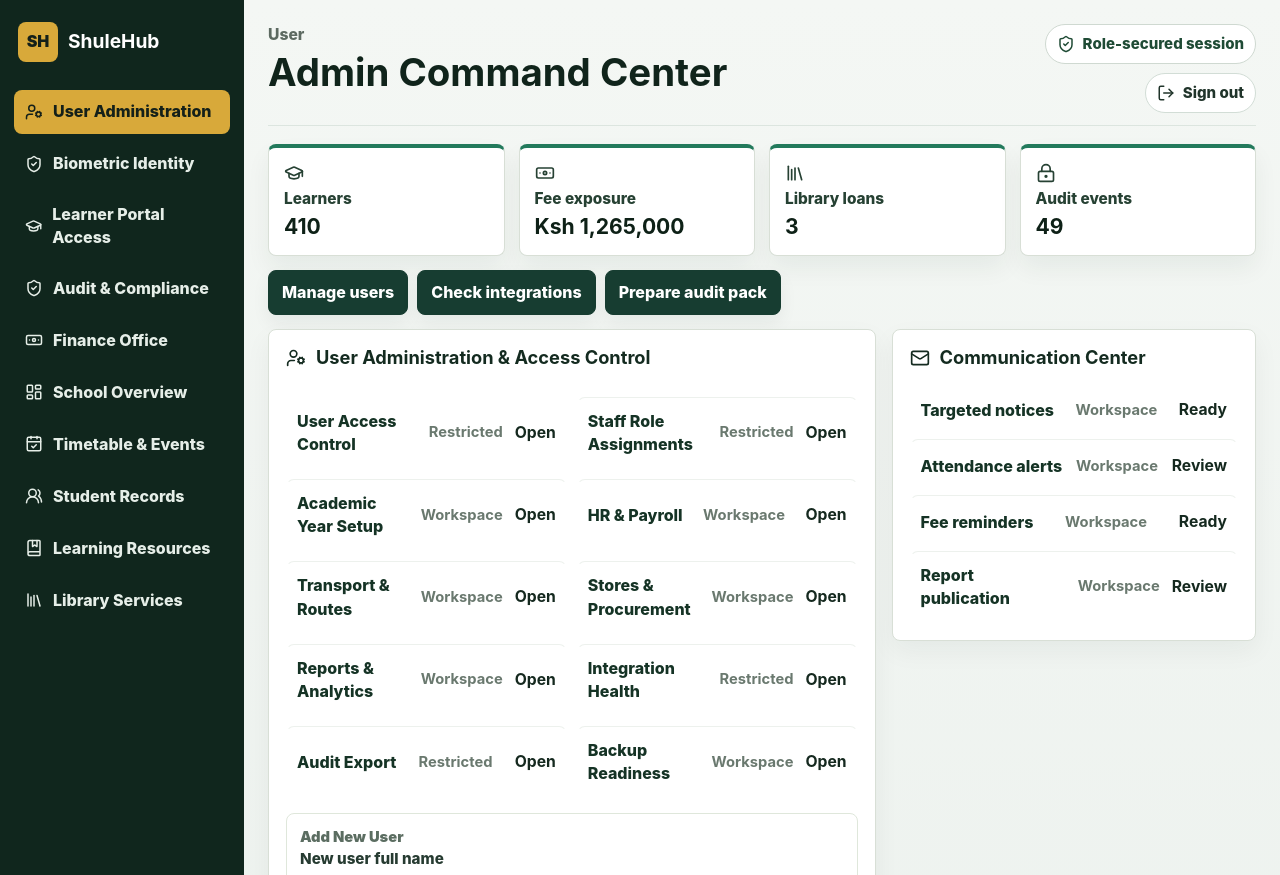
App › visible task buttons open full page workspaces instead of side panels
The image size is (1280, 875).
Click the button "Manage users": (338, 292) [268,270,408,315]
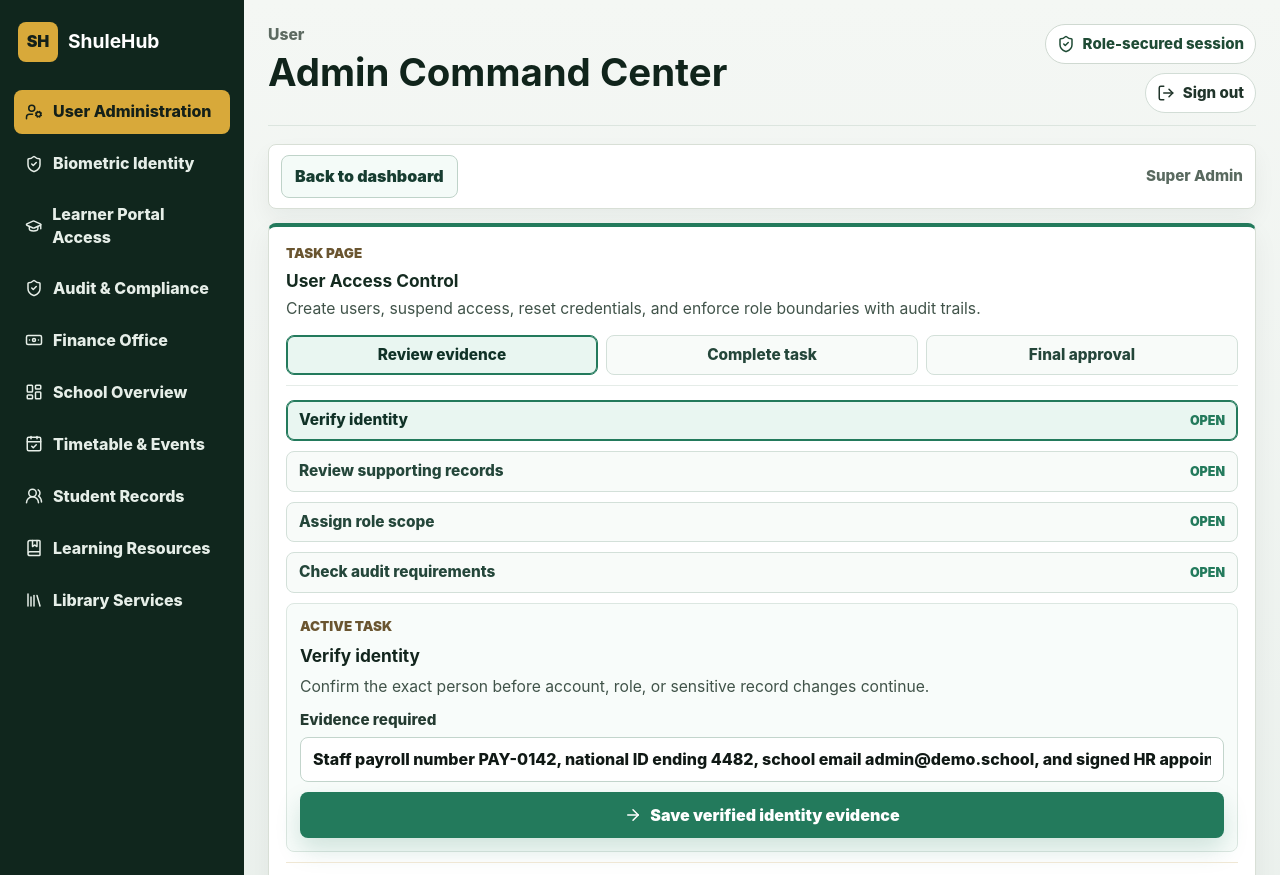
Expected: the heading "User Access Control" is shown, [286,270,458,291]
Click the tab "Complete task": (762, 355) [606,335,918,375]
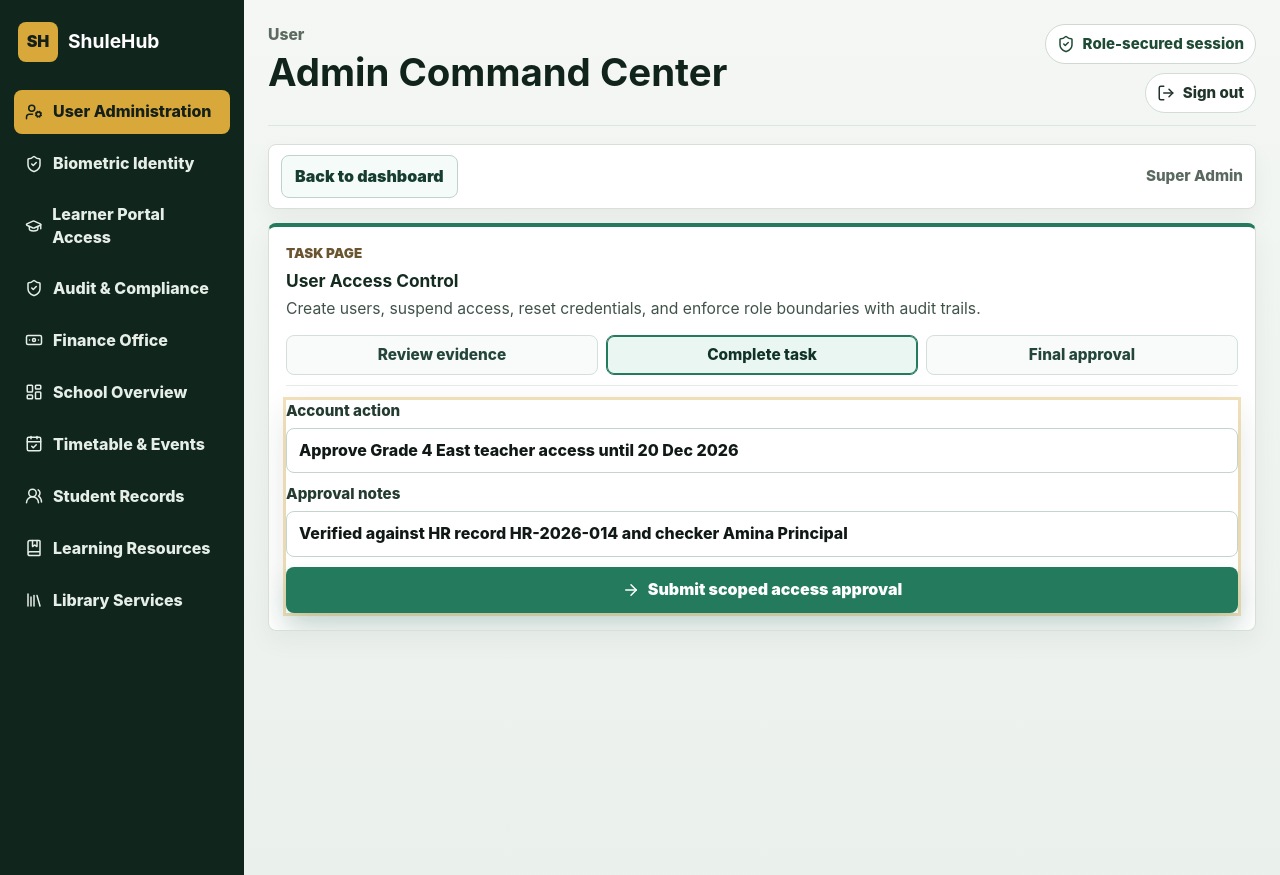
Expected: the heading "Communication Center" is not shown
Result: the button "Submit scoped access approval" is shown at [286,566,1238,612]
Click the button "User Administration": (122, 112) [14,90,230,134]
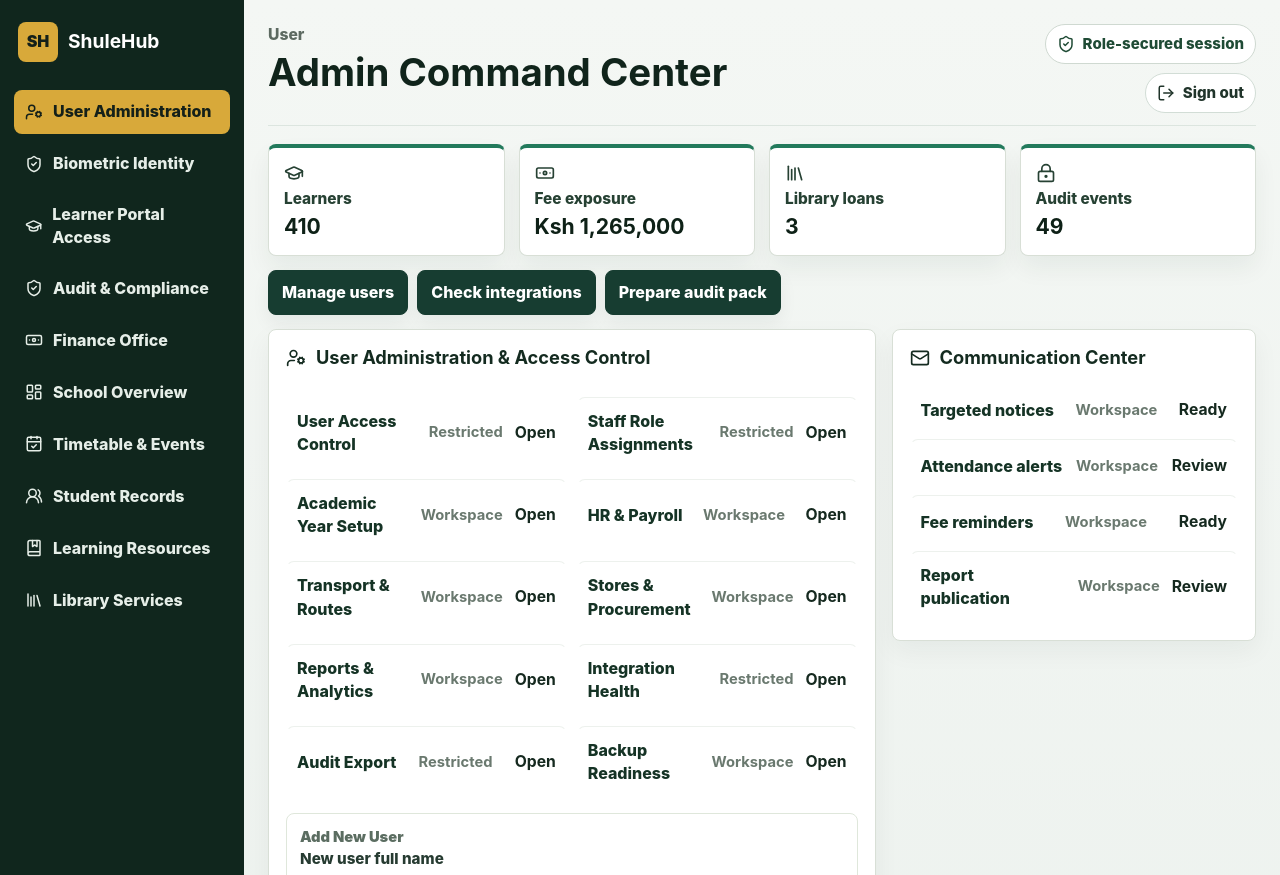
Result: the heading "User Administration & Access Control" is shown at [316,347,650,369]
